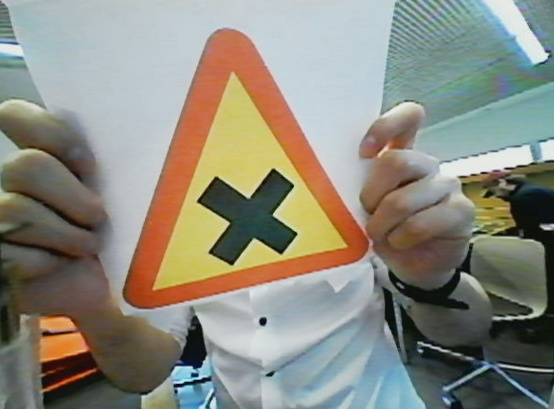junction: (113, 27, 366, 315)
